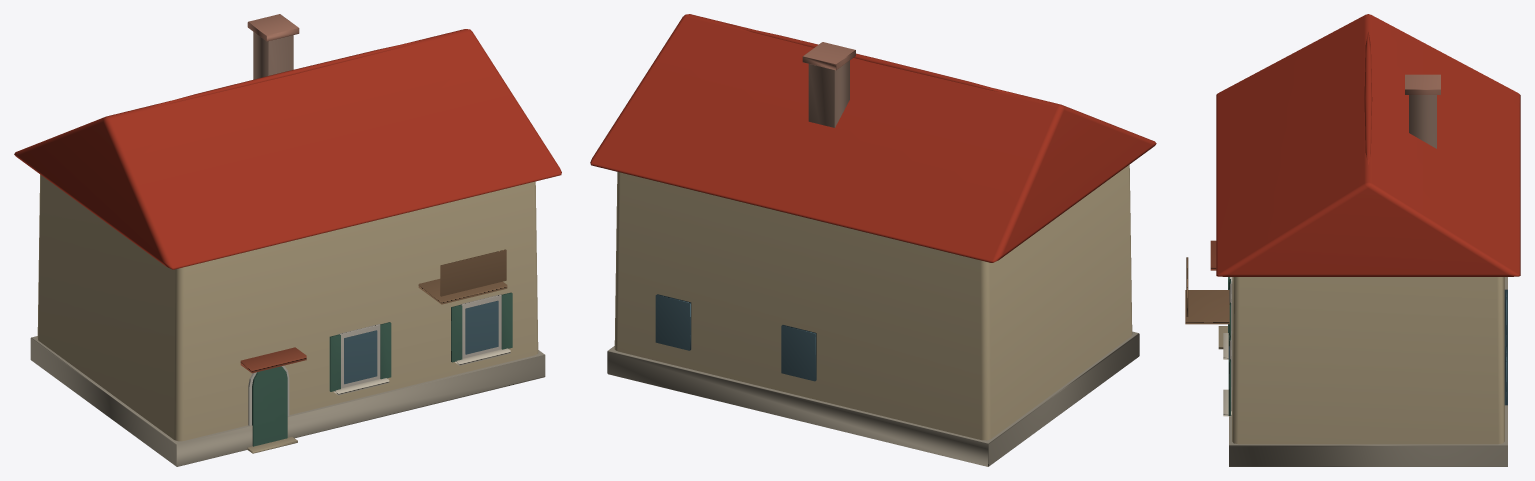
Rendered from house_12.glb.
3 views of the same model, side by side, from view 1: azimuth 30°, elevation 25°; view 2: azimuth 150°, elevation 25°; view 3: azimuth 270°, elevation 25° (orthographic). The views are drawn at different scales.
Visible parts, largest first — view 1: house_12; view 2: house_12; view 3: house_12.
Part boxes in pixels (bbox=[...]): house_12: bbox=[14, 14, 561, 466]; house_12: bbox=[590, 14, 1156, 466]; house_12: bbox=[1185, 14, 1520, 466].
Size of the model in its own units: 10.86 by 8.45 by 8.34.
